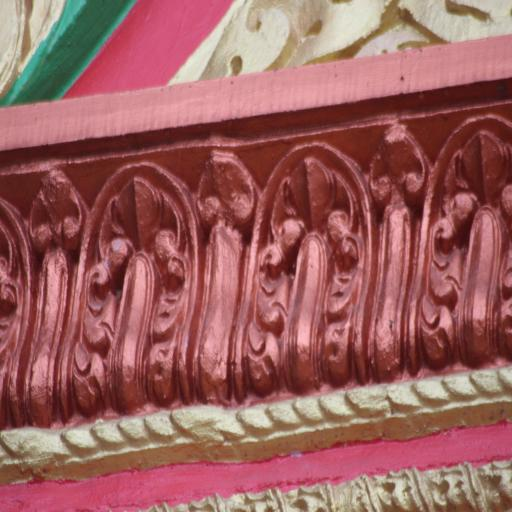la: (62, 154, 197, 428), (236, 136, 367, 405), (407, 114, 512, 376), (13, 169, 90, 425), (358, 118, 430, 383), (189, 148, 254, 405)
